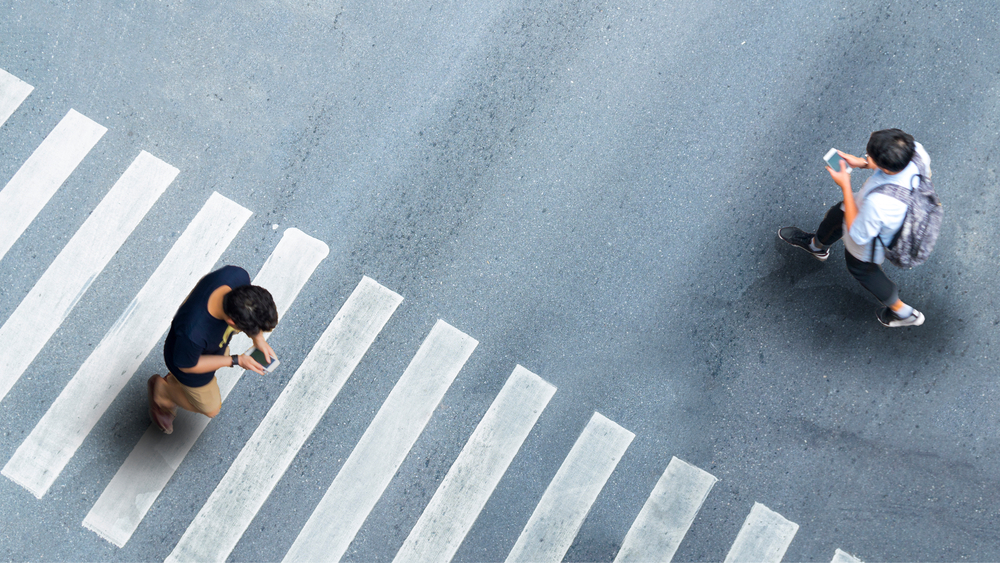person: (777, 126, 940, 334), (152, 262, 280, 436)
